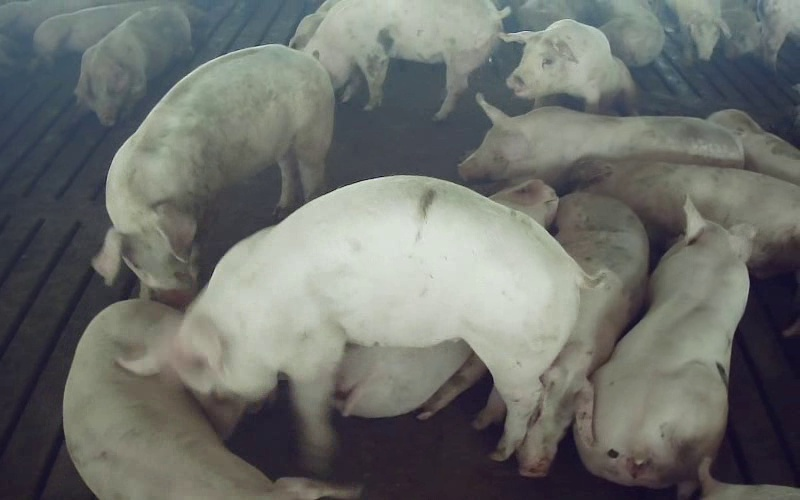pig: (122, 178, 585, 472), (63, 299, 357, 499), (576, 198, 754, 495), (569, 159, 799, 275), (458, 94, 743, 185), (304, 0, 507, 120), (75, 6, 191, 124), (500, 19, 636, 113)
